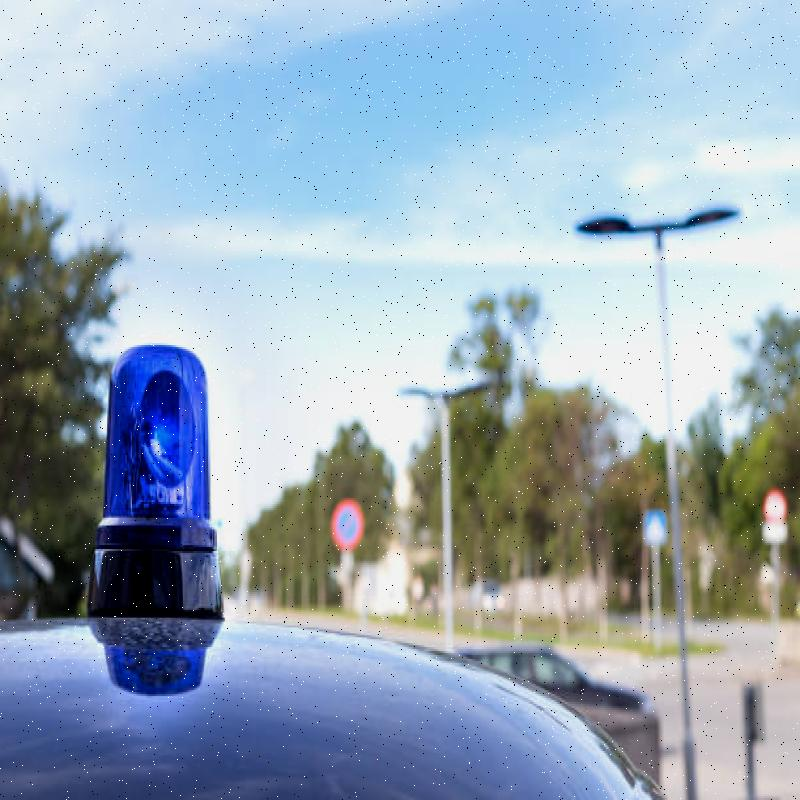AmbulanceSiren: (70, 316, 229, 601)
